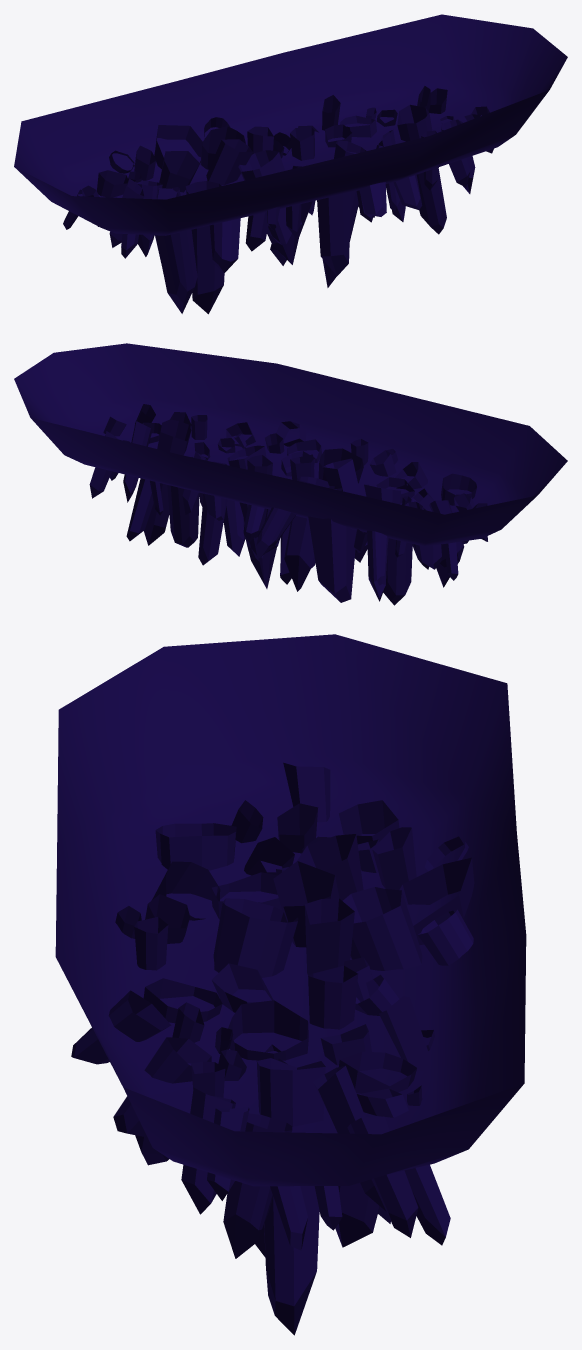
The model's file is Crystal02.FBX.
The picture shows the model from 3 angles, top to bottom: view 1: azimuth 30°, elevation 25°; view 2: azimuth 150°, elevation 25°; view 3: azimuth 270°, elevation 25°; orthographic projection. The views are drawn at different scales.
Visible parts, largest first — view 1: Object002; view 2: Object002; view 3: Object002.
Part boxes in pixels (x1,y1,x2,y2): Object002: (14,14,567,314); Object002: (14,343,567,605); Object002: (55,634,526,1335).
Bounding box in the file's own units: 116 × 38.16 × 46.28.
